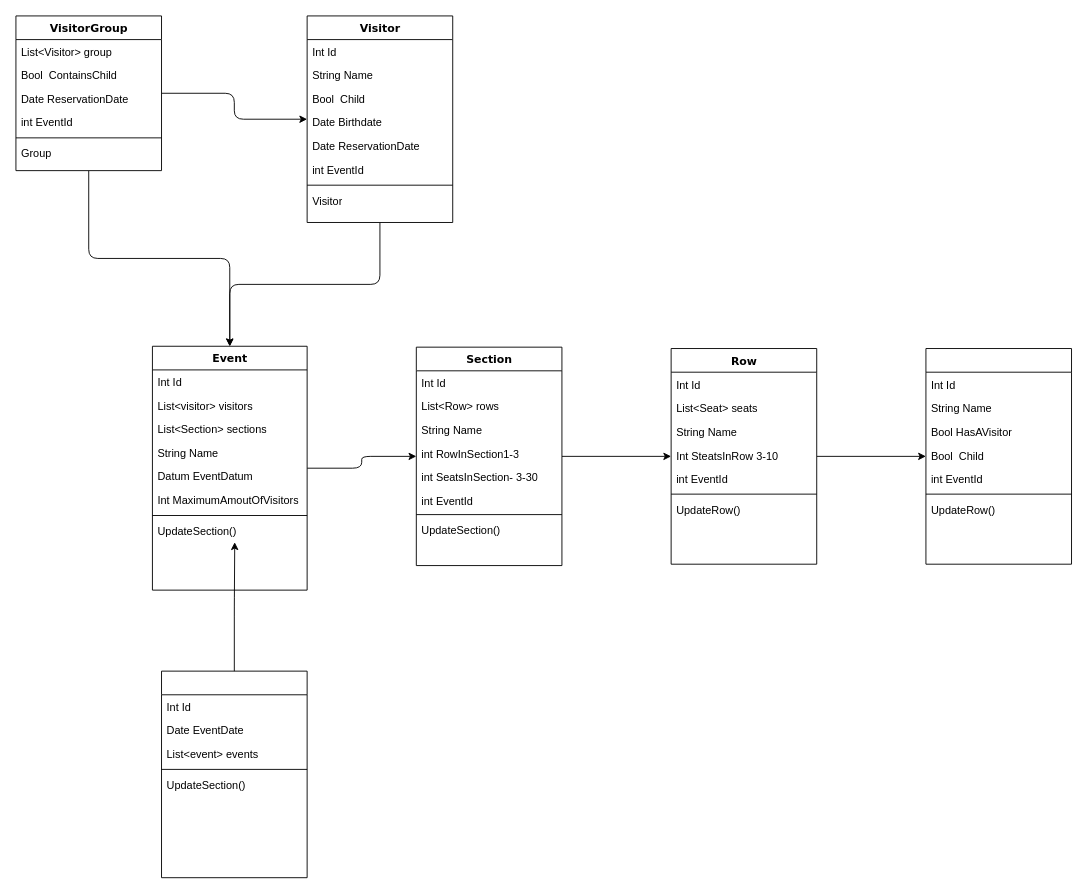
This 1087x894 diagram has some shape labels left out. The shapes that lost their labels are listed below. From the top down, each one's box as (x1, y1, x2, y2) in pixels, then its label:
(925, 348, 1072, 564): Seat
(161, 670, 307, 878): Organizer
